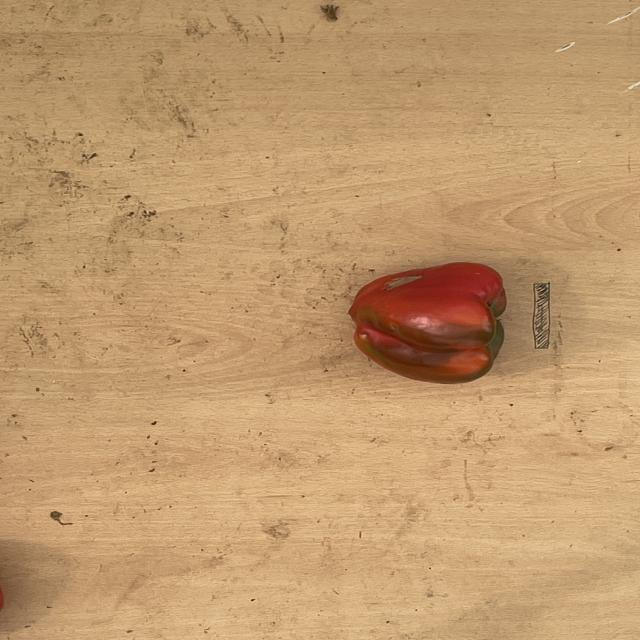Wet Waste: (341, 257, 521, 390)
